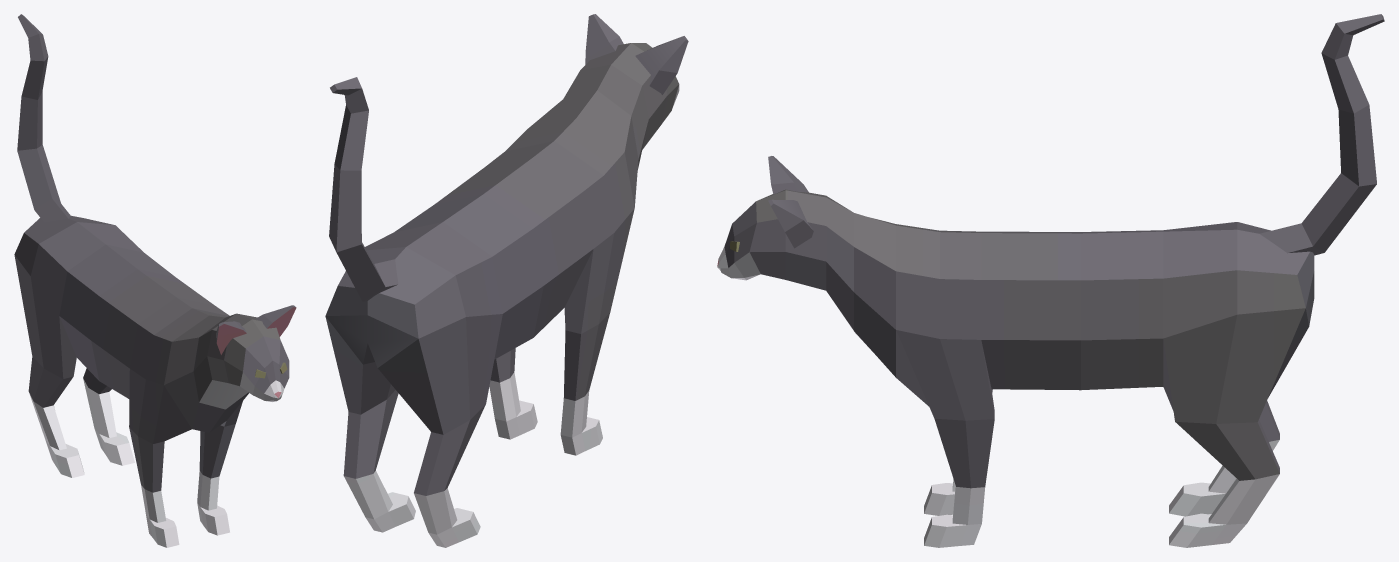
3 views of the same model, side by side, from view 1: azimuth 30°, elevation 25°; view 2: azimuth 150°, elevation 25°; view 3: azimuth 270°, elevation 25° (orthographic). The views are drawn at different scales.
Visible parts, largest first — view 1: Geo_Cat; view 2: Geo_Cat; view 3: Geo_Cat.
Part boxes in pixels (left/top/right/bottom): Geo_Cat: left=14, top=14, right=296, bottom=547; Geo_Cat: left=325, top=14, right=688, bottom=547; Geo_Cat: left=717, top=14, right=1384, bottom=547.
Bounding box in the file's own units: 0.2453 × 1 × 1.18.
Materials: 1 (1 with a texture image).
